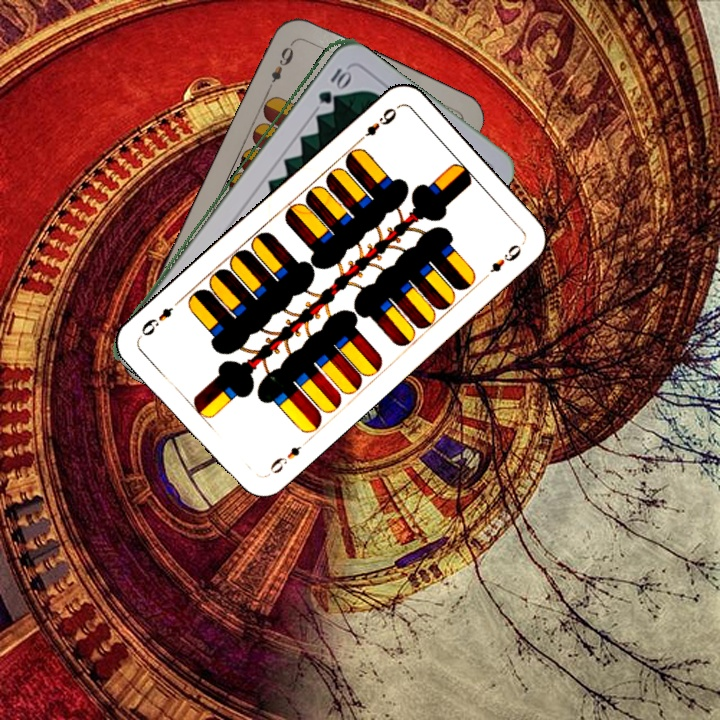E9: (262, 436, 311, 479), (352, 104, 399, 146), (267, 38, 297, 86)
G10: (314, 64, 351, 107)
